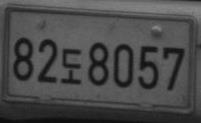0: (112, 42, 134, 88)
2: (36, 37, 58, 83)
5: (137, 45, 160, 90)
7: (161, 45, 185, 92)
8: (86, 41, 109, 86), (12, 36, 34, 80)
도: (59, 47, 83, 85)
